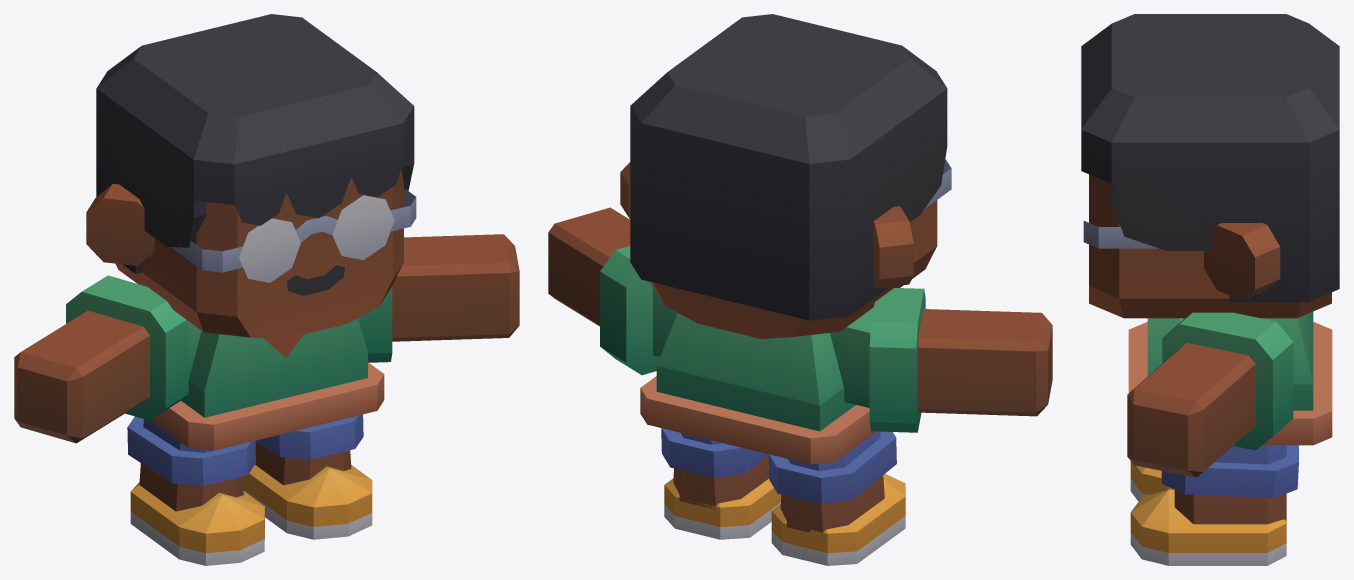
The model's file is citizen-male-a.glb.
The picture shows the model from 3 angles, left to right: view 1: azimuth 30°, elevation 25°; view 2: azimuth 150°, elevation 25°; view 3: azimuth 270°, elevation 25°; orthographic projection.
Parts seen in each view (by area): view 1: citizen-male-a; view 2: citizen-male-a; view 3: citizen-male-a.
Part boxes in pixels (x1=…): citizen-male-a: x1=14, y1=14, x2=519, y2=565; citizen-male-a: x1=548, y1=14, x2=1052, y2=565; citizen-male-a: x1=1081, y1=14, x2=1339, y2=565.
Bounding box in the file's own units: 1.14 × 1 × 0.5064.
